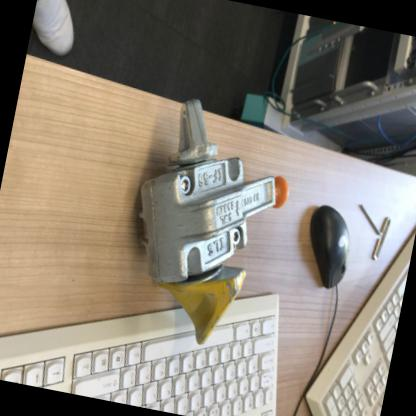Twistlock: (108, 87, 307, 360)
